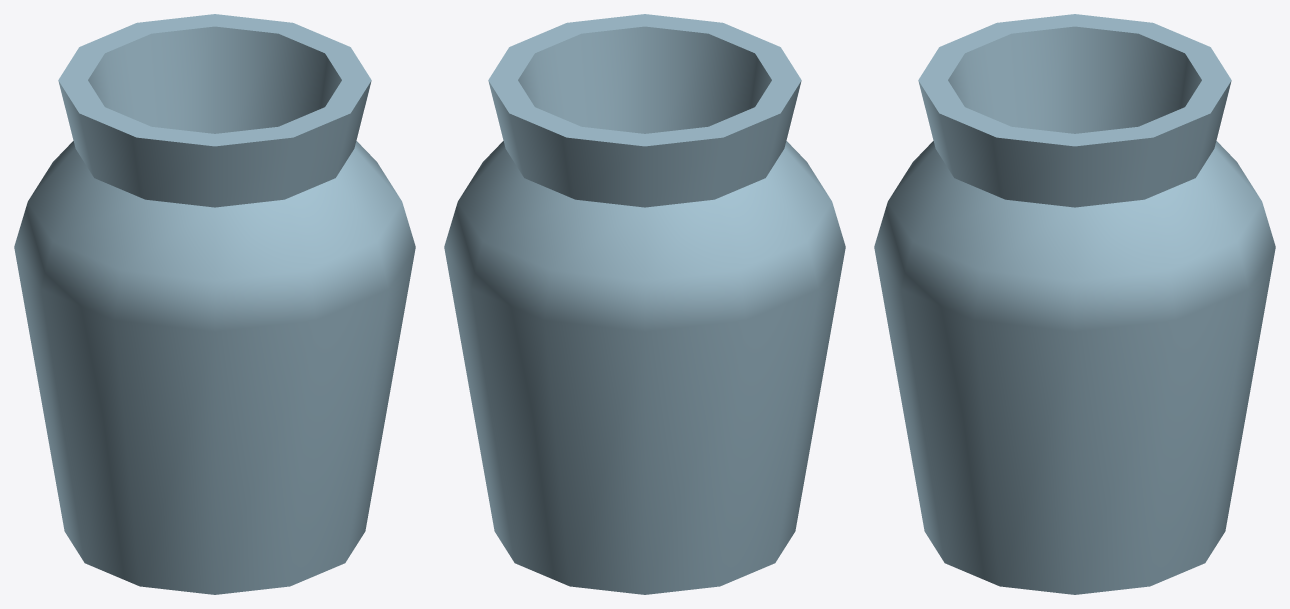
Rendered from Vaso_2.fbx.
3 renders of one model, left to right at view 1: azimuth 30°, elevation 25°; view 2: azimuth 150°, elevation 25°; view 3: azimuth 270°, elevation 25°, orthographic.
Visible parts, largest first — view 1: Vaso_2; view 2: Vaso_2; view 3: Vaso_2.
Boxes of the visible parts, x1,y1,x2,y2 form: Vaso_2: (14, 14, 415, 594); Vaso_2: (444, 14, 845, 594); Vaso_2: (874, 14, 1275, 594).
Bounding box in the file's own units: 0.3896 × 0.4829 × 0.3896.
